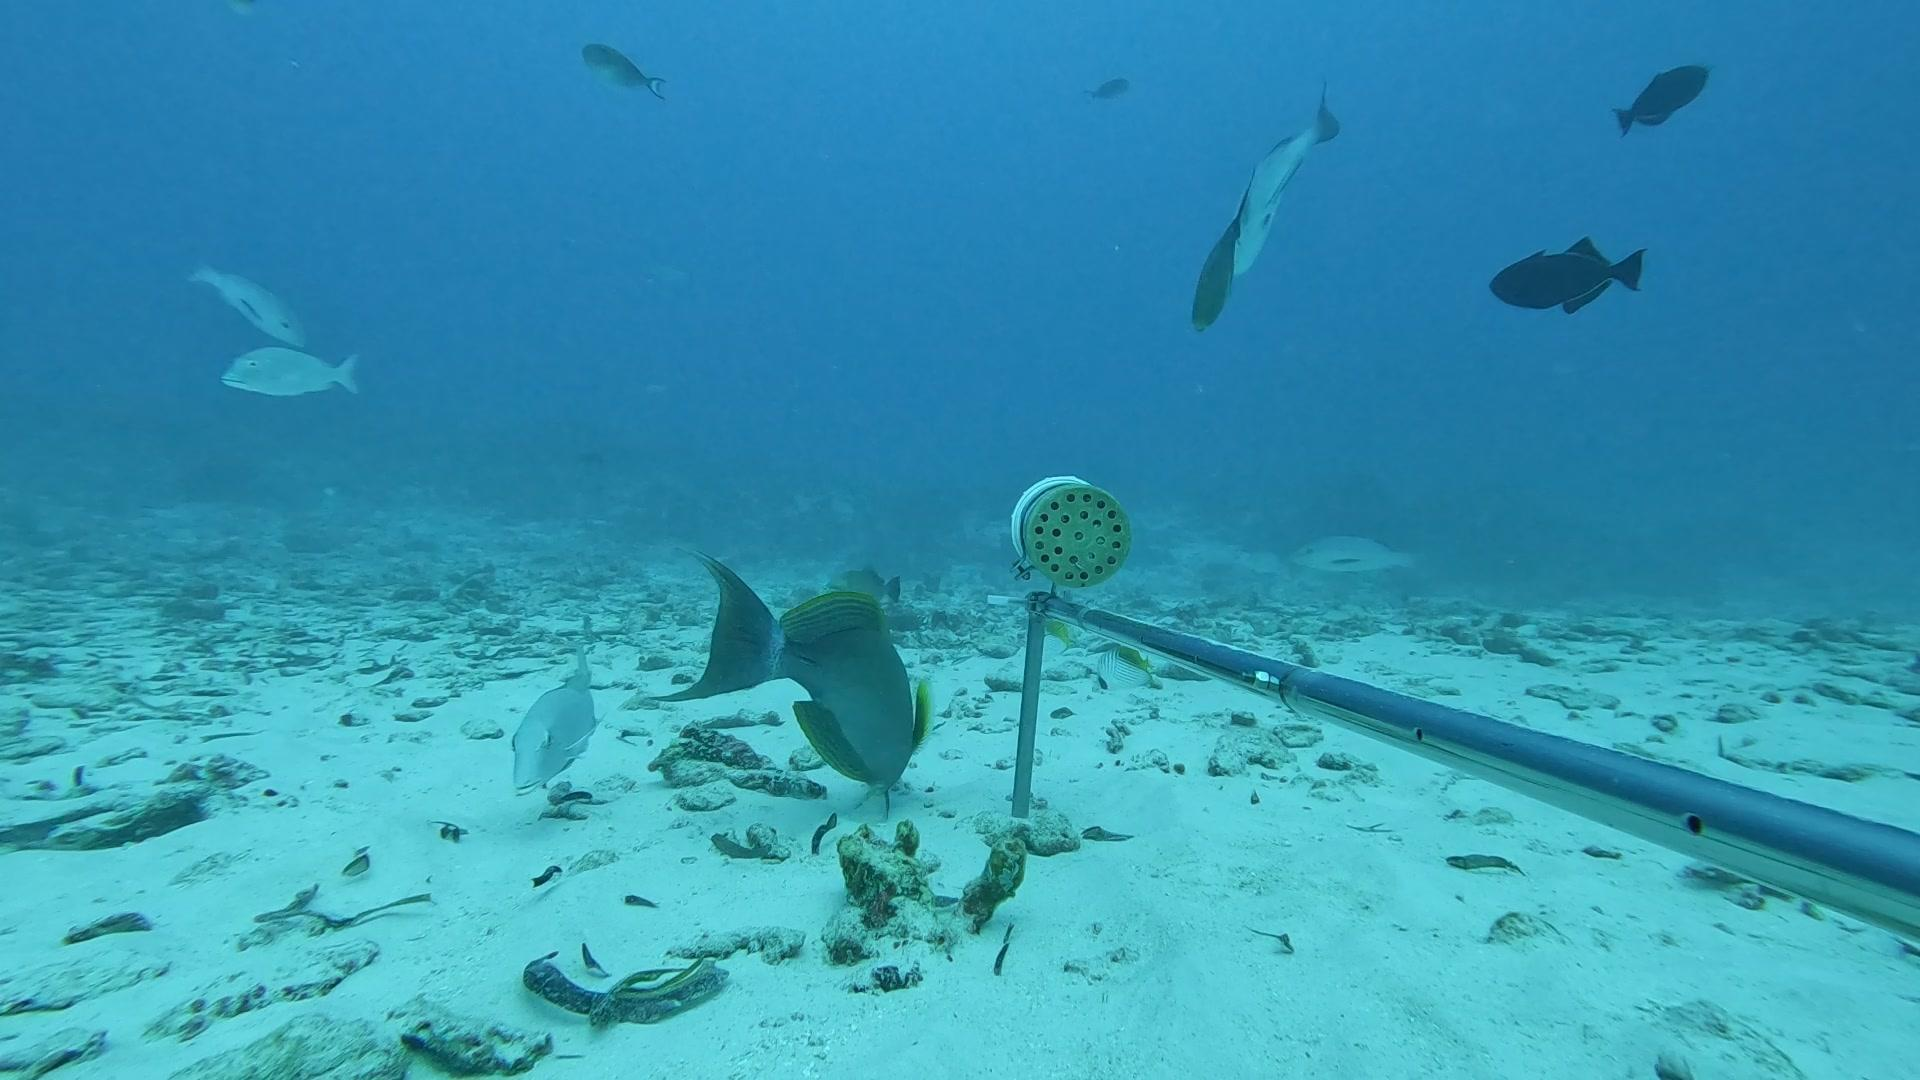fish: (658, 535, 956, 822), (1155, 65, 1375, 356), (1477, 207, 1665, 352), (171, 237, 326, 357), (500, 638, 600, 811), (1593, 40, 1730, 164), (208, 336, 378, 423), (568, 25, 682, 123), (1284, 521, 1425, 589), (1088, 646, 1155, 694), (819, 564, 906, 600), (1081, 65, 1134, 115)
